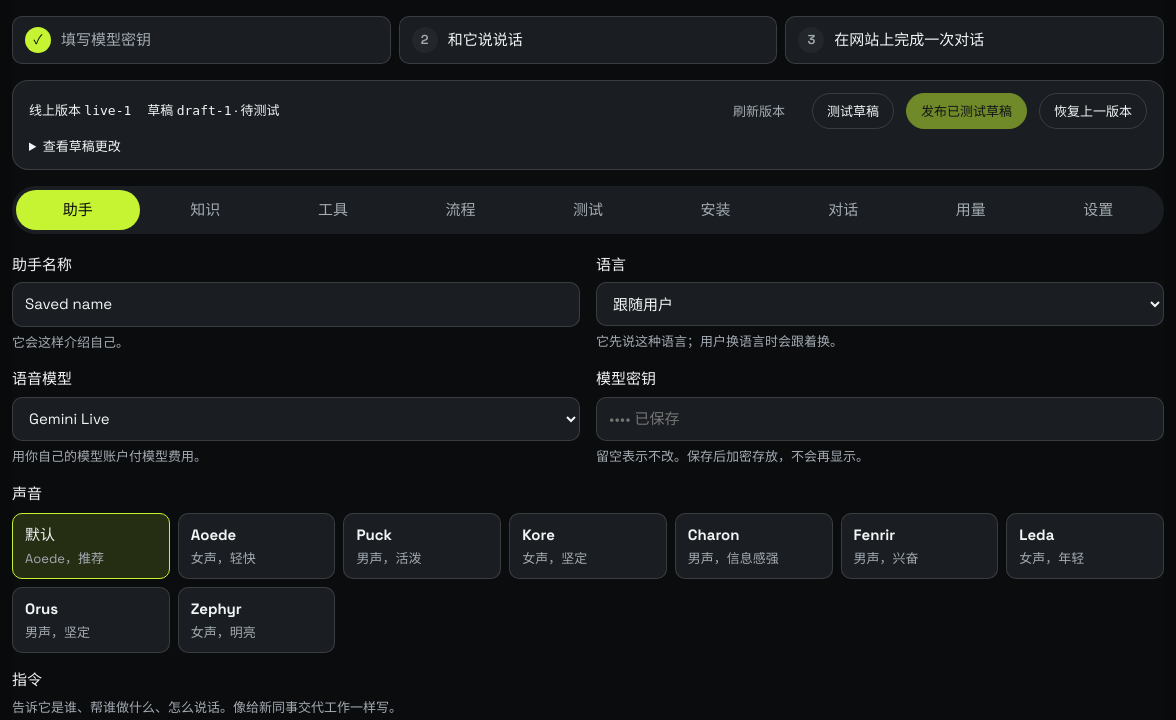
Scenario: overview pieces › submits the reviewed draft ID on restore and preserves edits when it is stale
Replace the text in the field labelled "助手名称 它会这样介绍自己。" with "Unsaved name" at coordinates (296, 304), box [12,282,580,326]
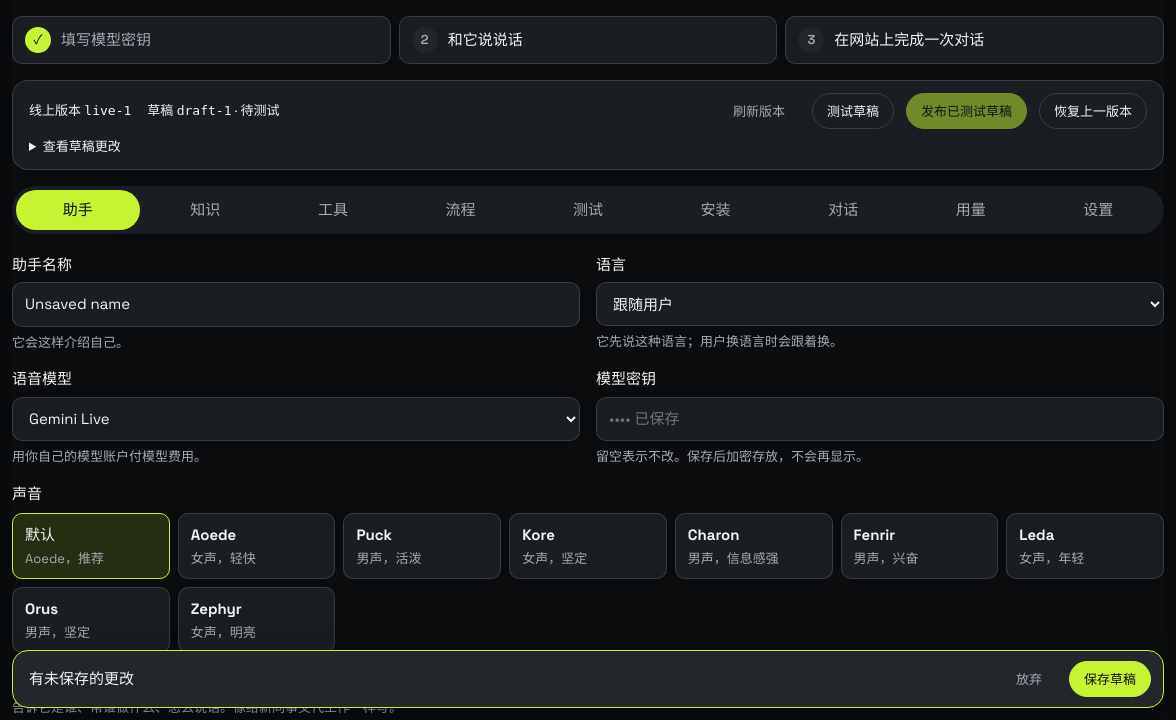
Click the button "恢复上一版本" at coordinates (1093, 111), box [1039,93,1147,129]
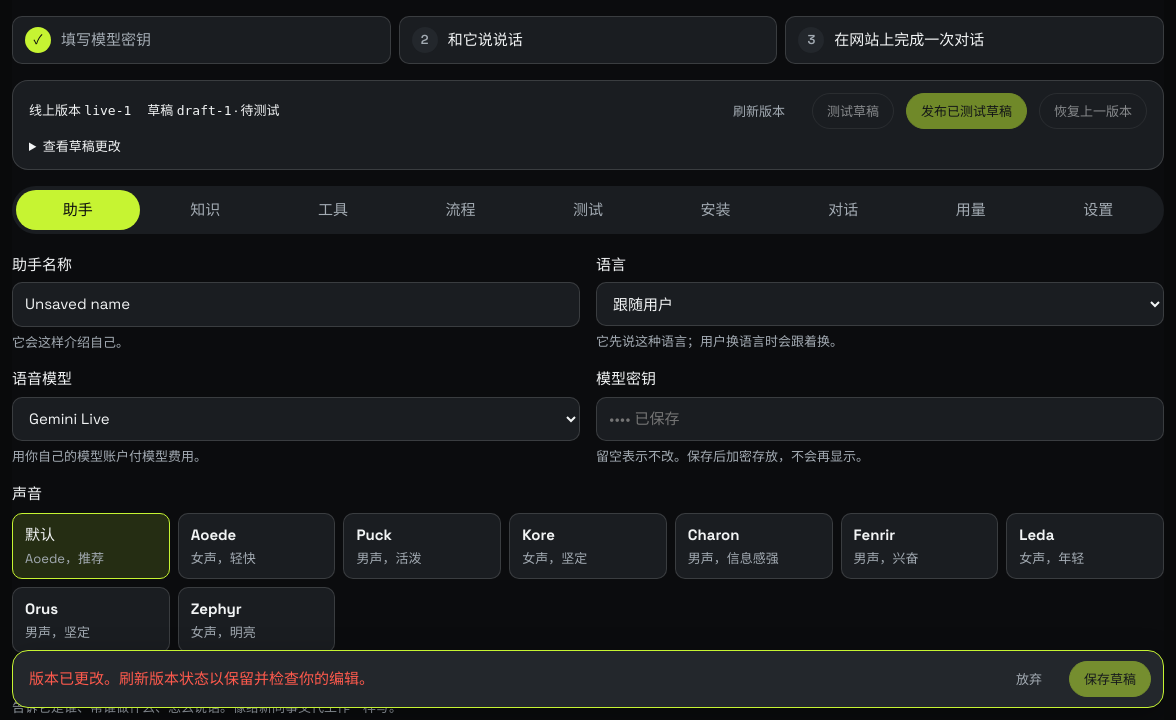
Result: the button "恢复上一版本" is disabled at [1039,93,1147,129]
